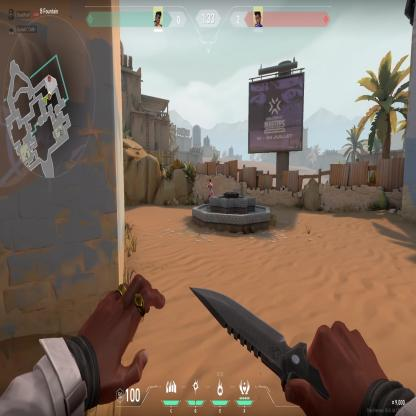enemy: (208, 178, 213, 200)
